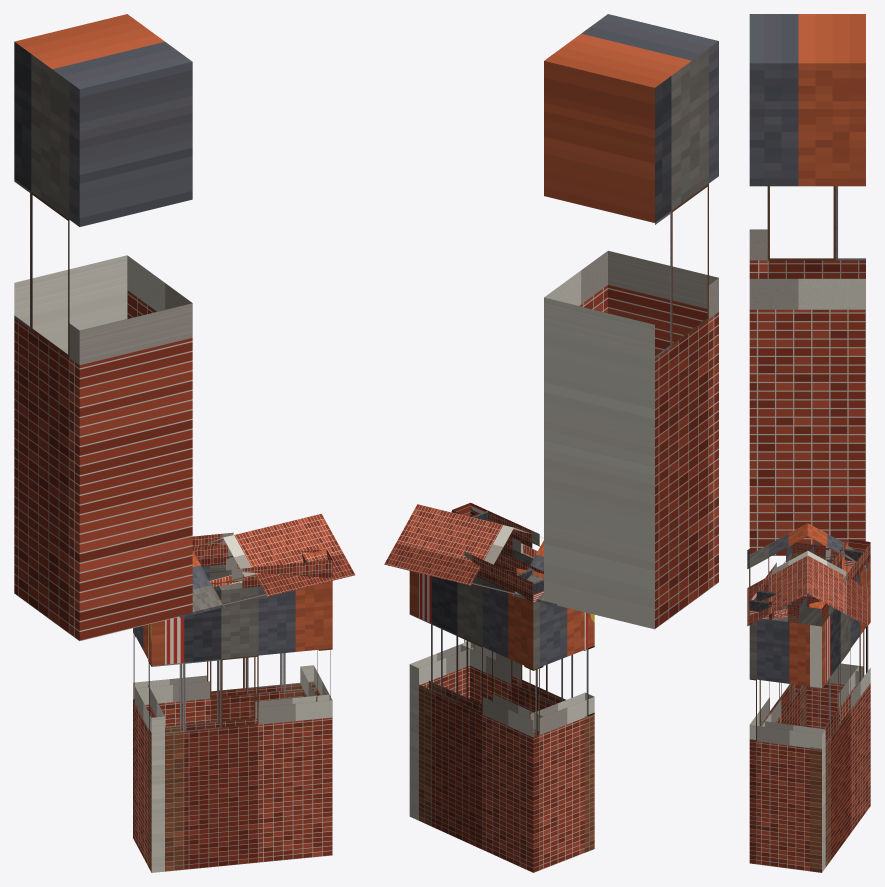
3 renders of one model, left to right at view 1: azimuth 30°, elevation 25°; view 2: azimuth 150°, elevation 25°; view 3: azimuth 270°, elevation 25°, orthographic. The views are drawn at different scales.
Visible parts, largest first — view 1: 535007117__chimney_0_xb, 535007117__wall_0_xb, 535007117_roof_-1_xb, 535007117__wall_3_xb, 535007117__wall_2_xb, 535007117__cornice_0, 535007117__cornice_2, 535007117__wall_1_xb; view 2: 535007117__chimney_0_xb, 535007117__wall_2_xb, 535007117__wall_3_xb, 535007117_roof_1_xb, 535007117__wall_0_xb, 535007117__wall_1_xb, 535007117__cornice_2, 535007117__cornice_0; view 3: 535007117__chimney_0_xb, 535007117__wall_1_xb, 535007117__wall_2_xb, 535007117_roof_1_xb, 535007117_roof_-1_xb, 535007117__wall_3_xb, 535007117__wall_0_xb, 535007117__cornice_2, 535007117__cornice_1, 535007117__cornice_3, 535007117__cornice_0.
Part boxes in pixels (x1,y1,x2,y2): 535007117__chimney_0_xb: (14, 14, 192, 641); 535007117__wall_0_xb: (148, 581, 332, 872); 535007117_roof_-1_xb: (179, 513, 355, 617); 535007117__wall_3_xb: (133, 620, 164, 872); 535007117__wall_2_xb: (133, 557, 316, 726); 535007117__cornice_0: (205, 549, 332, 589); 535007117__cornice_2: (192, 532, 233, 566); 535007117__wall_1_xb: (300, 648, 332, 701); 535007117__chimney_0_xb: (544, 14, 718, 629); 535007117__wall_2_xb: (409, 573, 543, 872); 535007117__wall_3_xb: (524, 601, 594, 872); 535007117_roof_1_xb: (384, 504, 556, 606); 535007117__wall_0_xb: (460, 550, 594, 852); 535007117__wall_1_xb: (409, 571, 474, 820); 535007117__cornice_2: (464, 551, 543, 601); 535007117__cornice_0: (452, 503, 540, 559); 535007117__chimney_0_xb: (749, 14, 865, 555); 535007117__wall_1_xb: (749, 617, 825, 872); 535007117__wall_2_xb: (810, 560, 870, 872); 535007117_roof_1_xb: (807, 523, 868, 625); 535007117_roof_-1_xb: (747, 523, 807, 626); 535007117__wall_3_xb: (794, 559, 870, 728); 535007117__wall_0_xb: (749, 594, 806, 739); 535007117__cornice_2: (799, 539, 870, 626); 535007117__cornice_1: (749, 590, 828, 625); 535007117__cornice_3: (791, 540, 863, 567); 535007117__cornice_0: (755, 541, 818, 619).
Size of the model in its own units: 0.3647 by 1.05 by 0.1589.
1 material, 1 textured.
